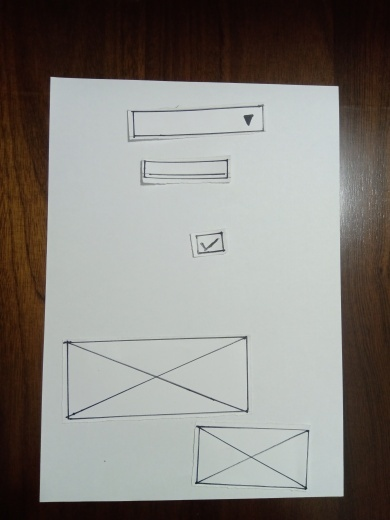checkbox: (191, 228, 223, 253)
dropdown: (129, 107, 263, 134)
img: (63, 342, 249, 419), (194, 427, 307, 486)
text: (143, 157, 234, 181)
